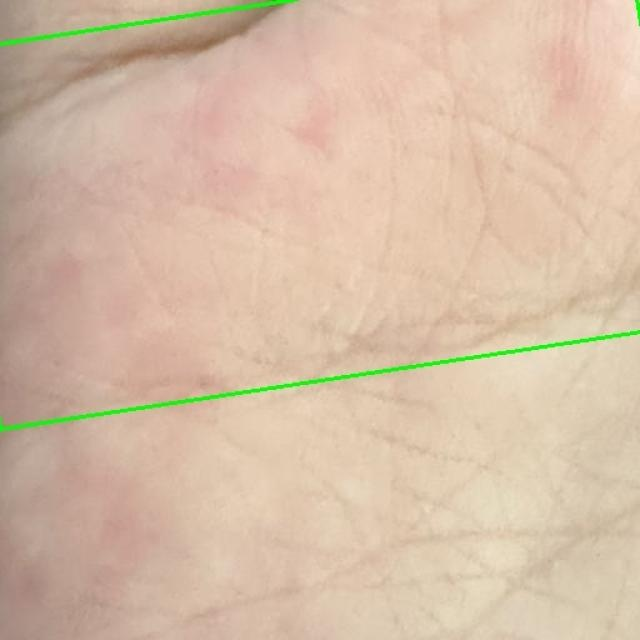Contact Dermatitis: (0, 0, 640, 429)
